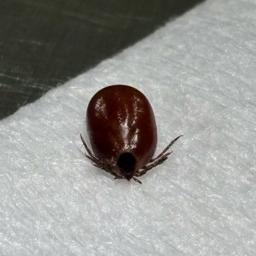Ixodes scapularis: (80, 84, 182, 186)
